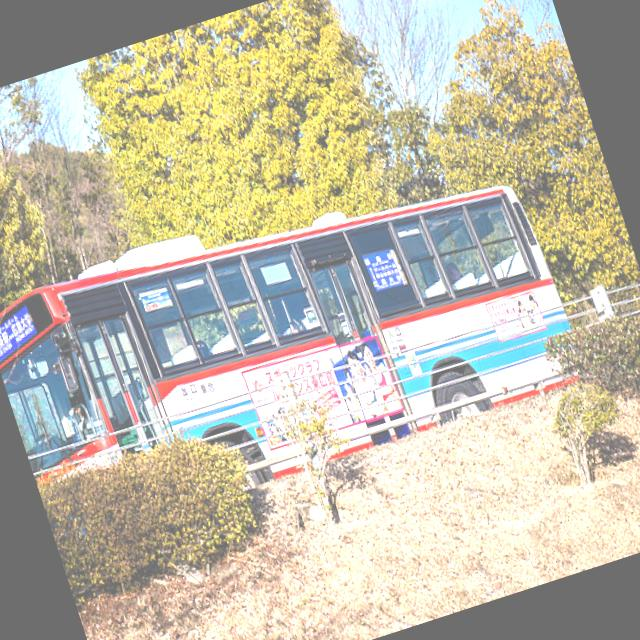Vehicle: (0, 129, 591, 555)
